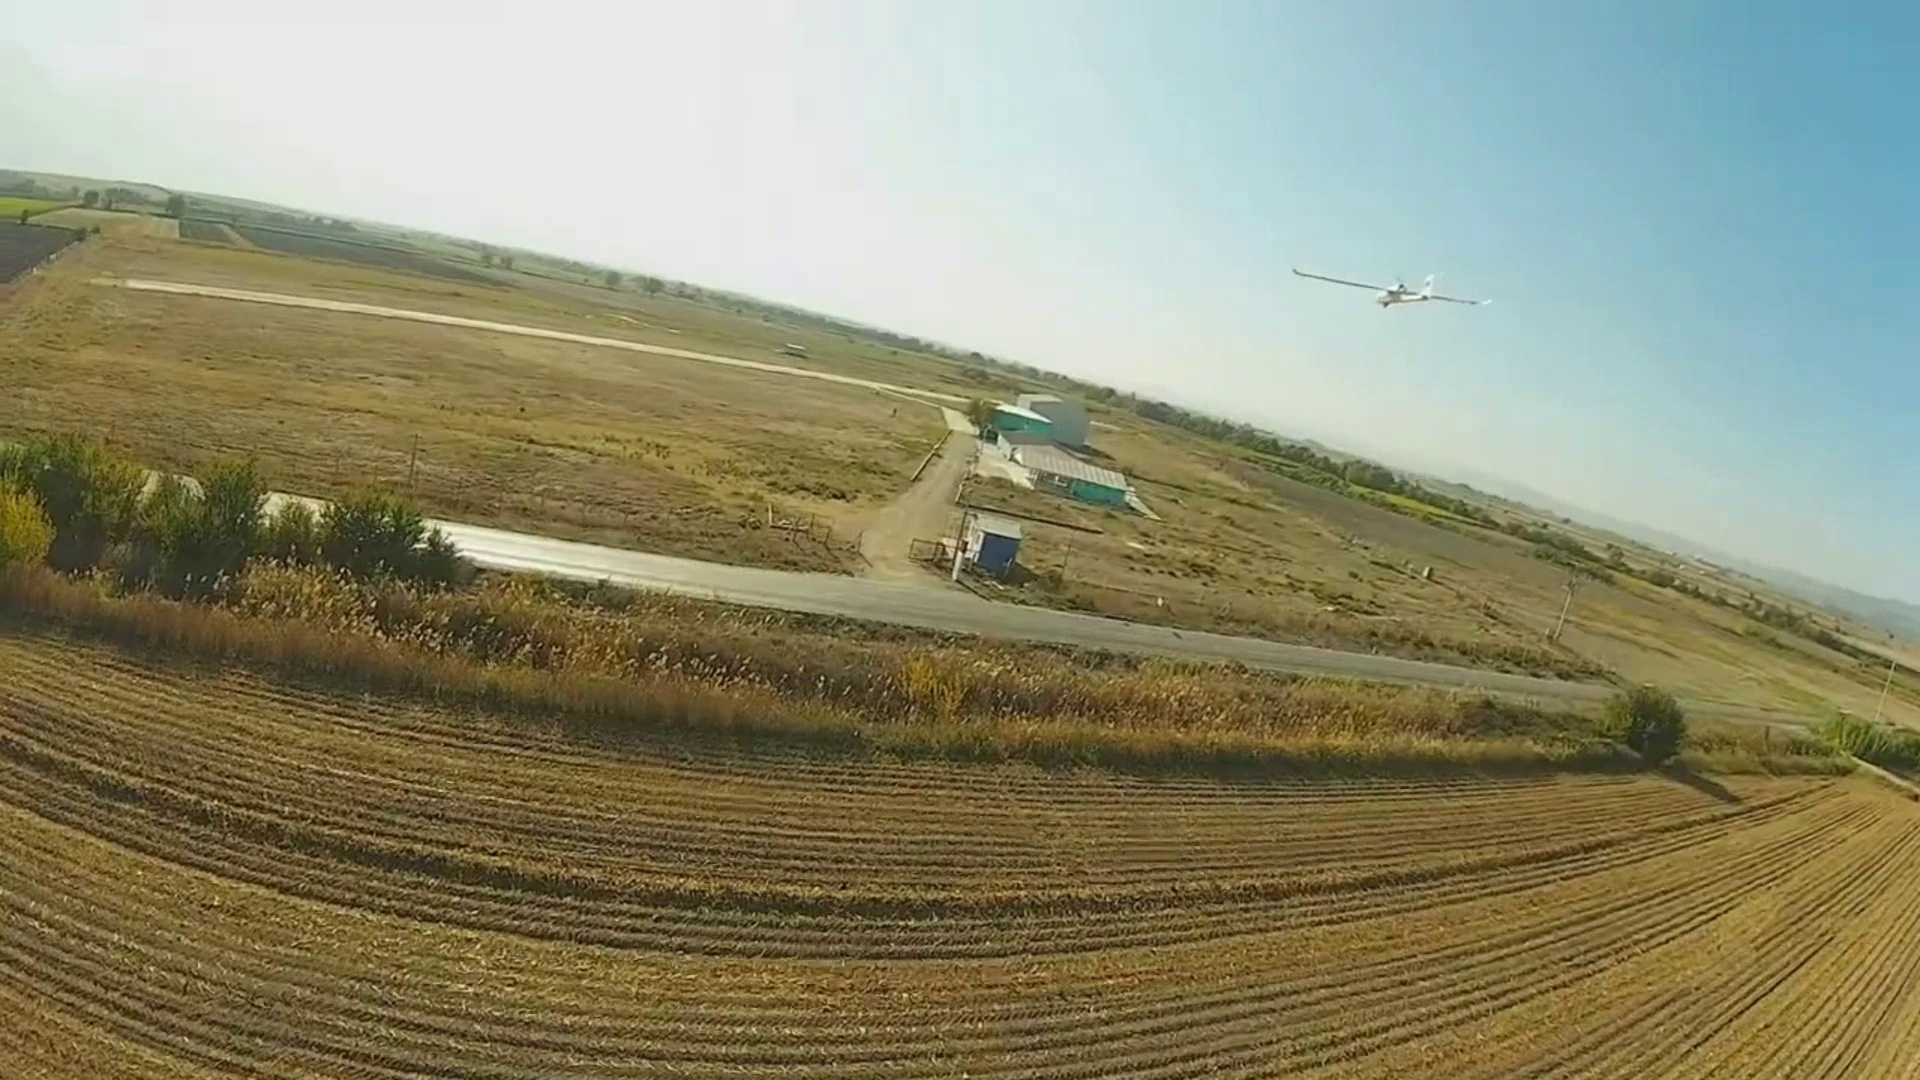airplane: (1288, 262, 1487, 313), (1373, 276, 1489, 310)
